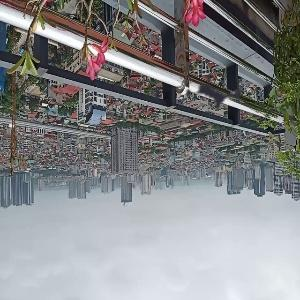drone: (161, 41, 264, 144)
